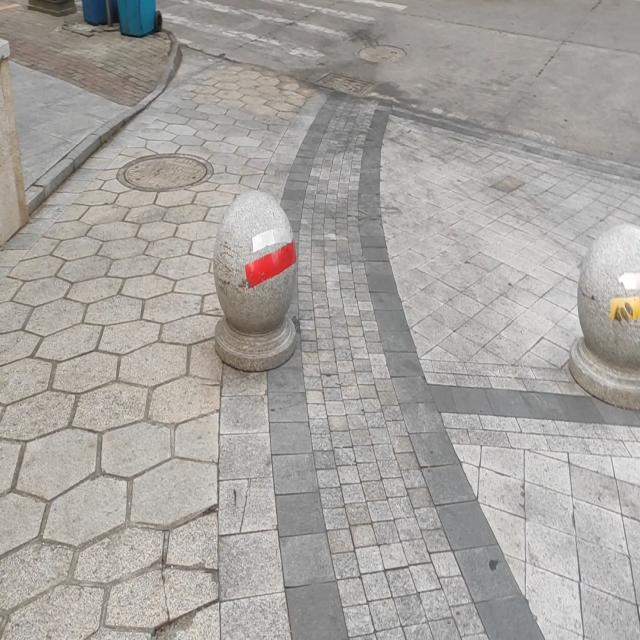ash bin: (116, 2, 161, 36), (81, 0, 115, 25)
motorbike: (212, 191, 298, 373), (569, 222, 640, 413)
